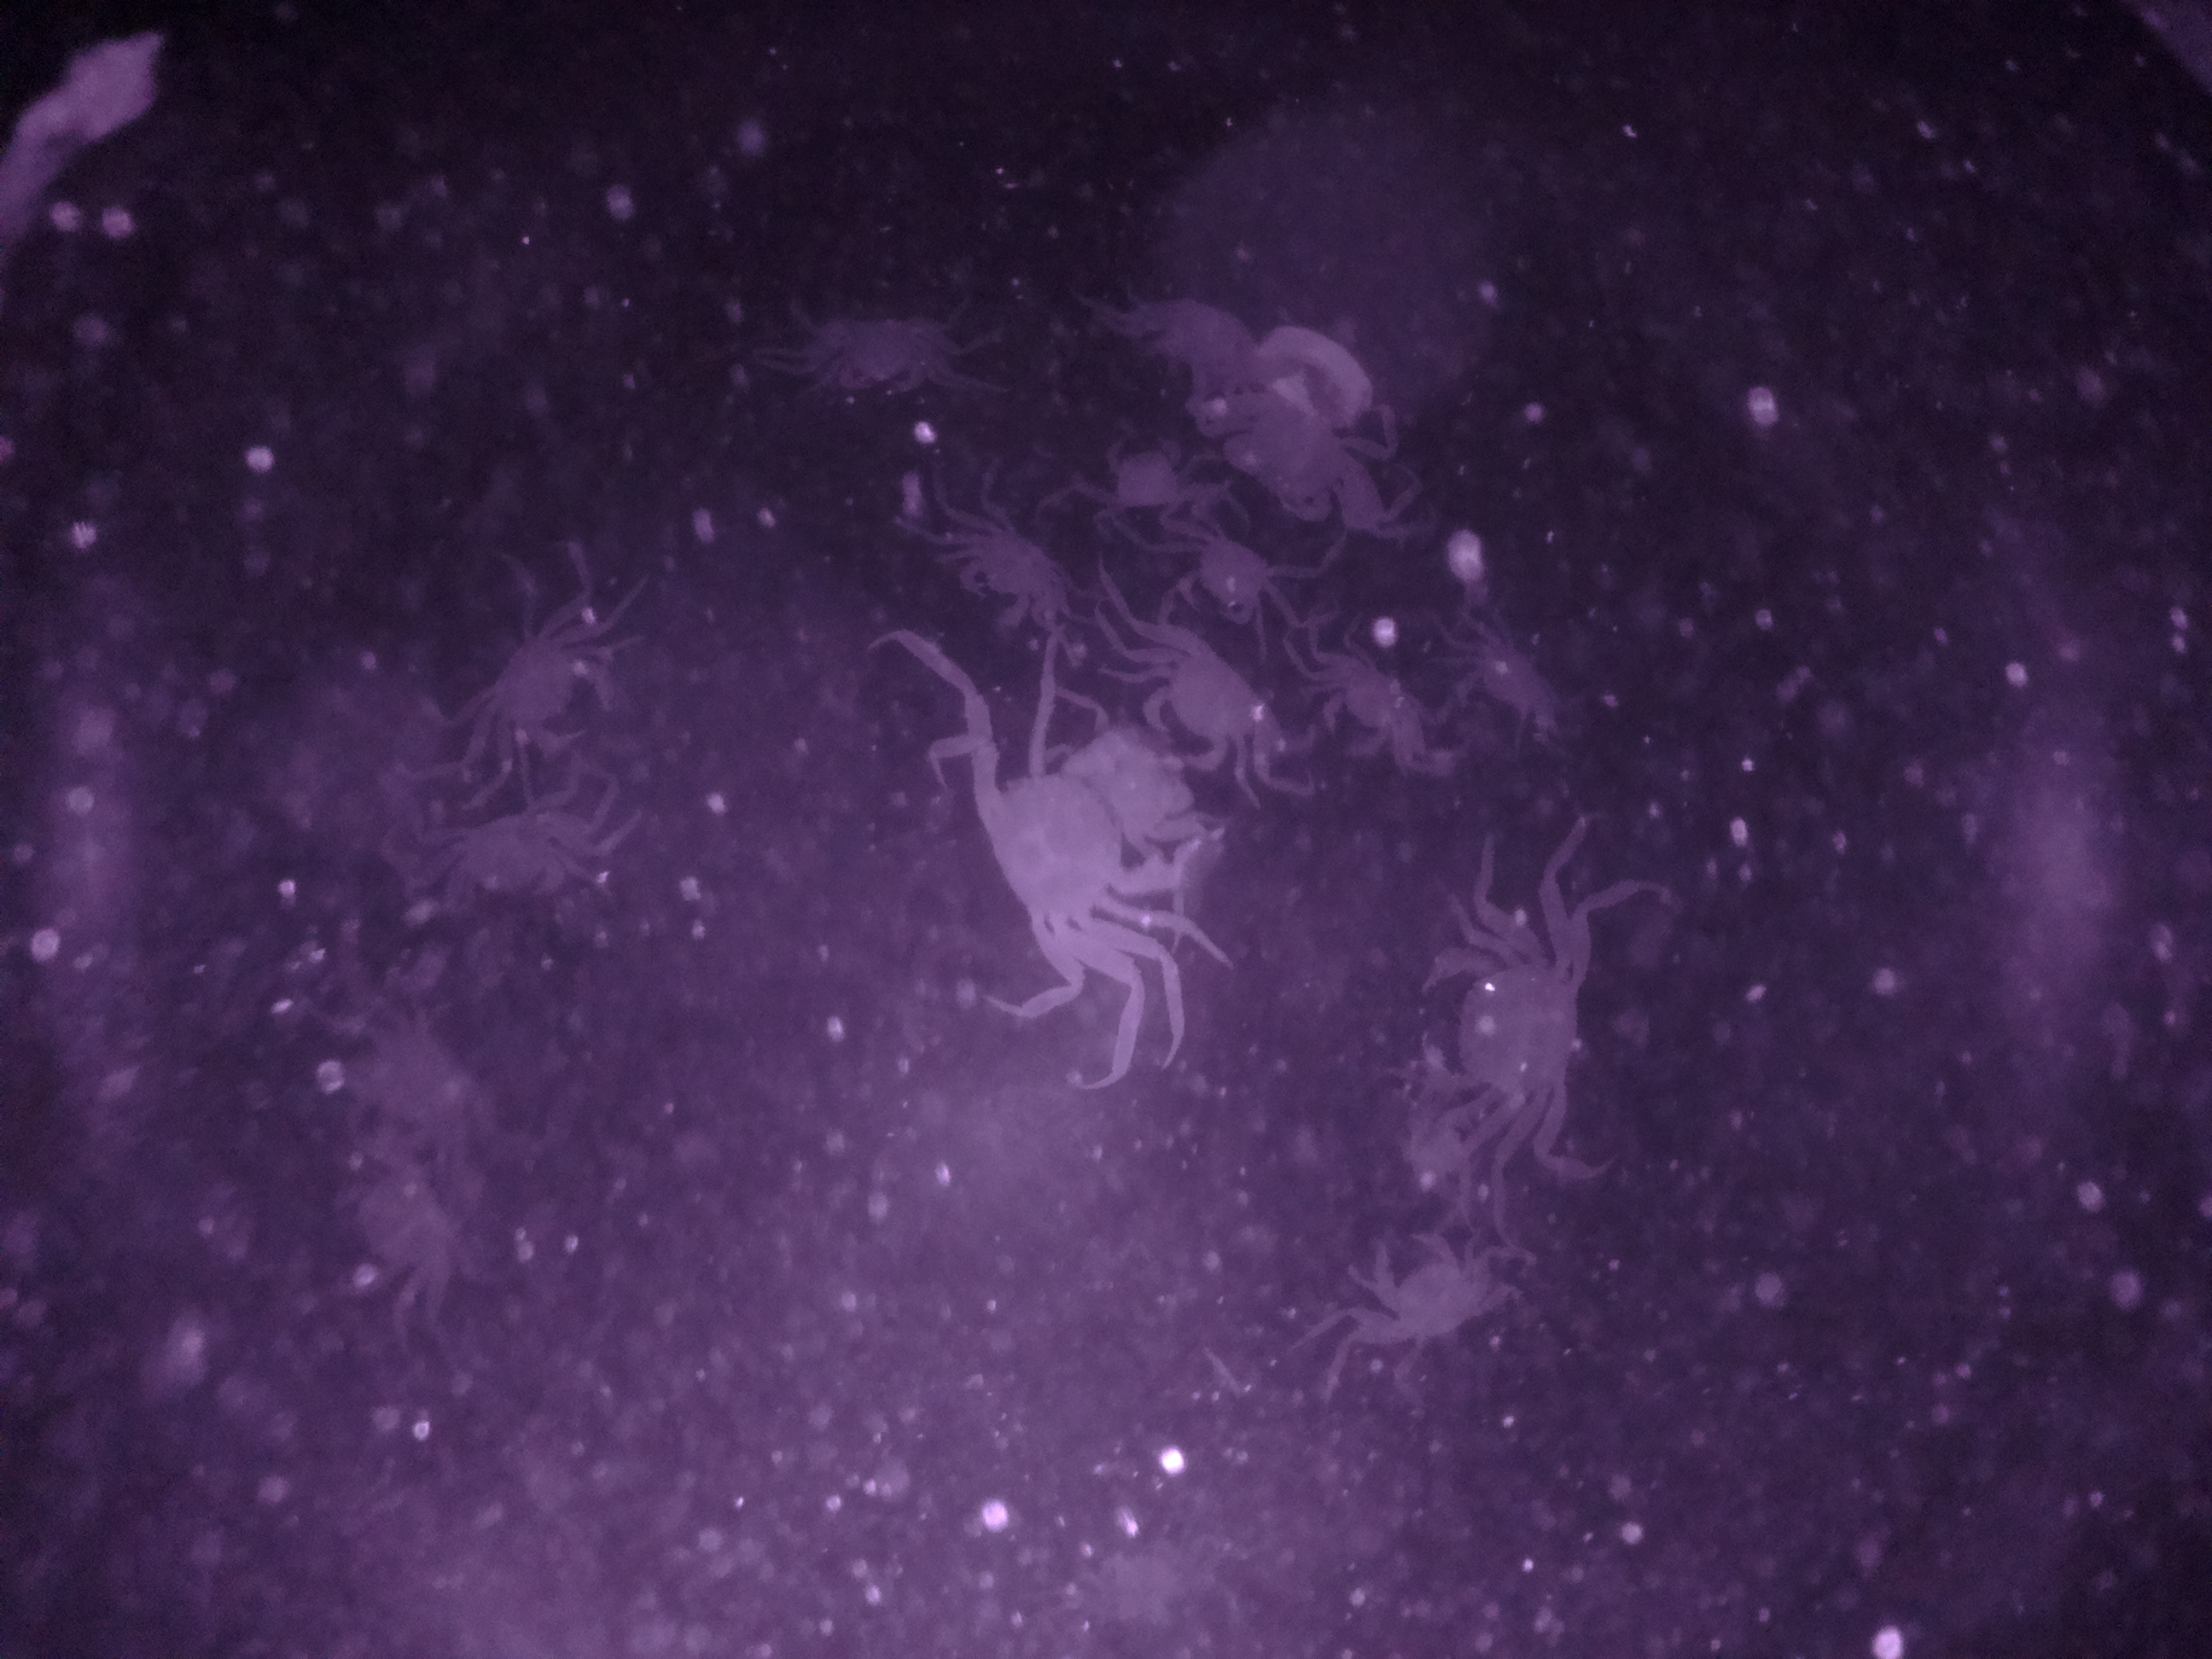Crab: (1390, 917, 1613, 1148), (463, 606, 629, 786), (1325, 1206, 1505, 1371), (415, 800, 608, 931), (1130, 626, 1277, 791), (944, 498, 1085, 648), (1310, 636, 1437, 777), (1172, 497, 1296, 636)
